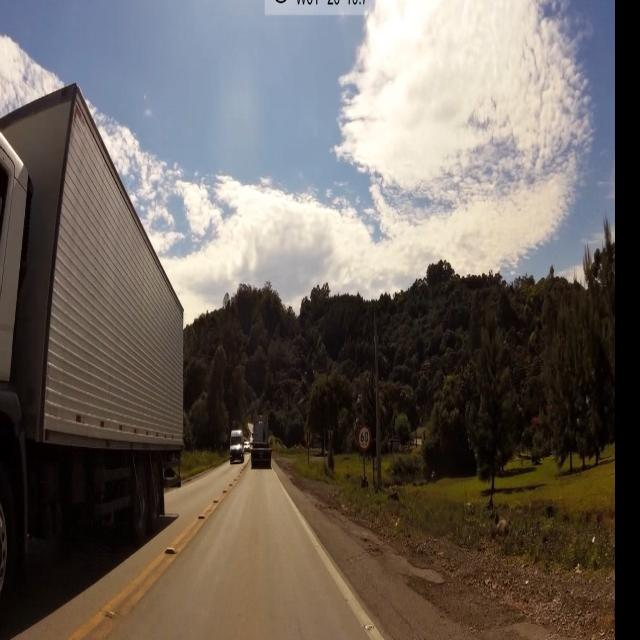R-19: (357, 425, 371, 454)
